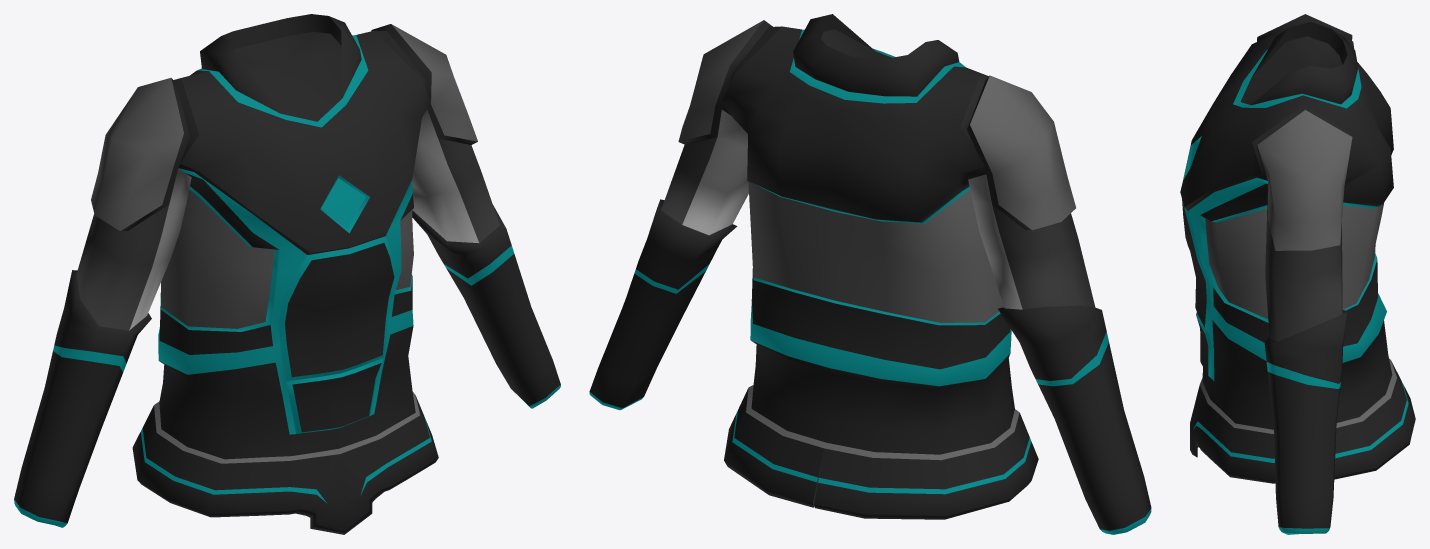
The model's file is M_uBody_CyberSuit.glb.
3 views of the same model, side by side, from view 1: azimuth 30°, elevation 25°; view 2: azimuth 150°, elevation 25°; view 3: azimuth 270°, elevation 25° (orthographic). The views are drawn at different scales.
Visible parts, largest first — view 1: M_uBody_CyberSuit; view 2: M_uBody_CyberSuit; view 3: M_uBody_CyberSuit.
Part boxes in pixels (bbox=[...]): M_uBody_CyberSuit: bbox=[14, 14, 560, 534]; M_uBody_CyberSuit: bbox=[589, 14, 1151, 534]; M_uBody_CyberSuit: bbox=[1180, 14, 1415, 534].
Size of what is drawn, in the model's own units: 1.95 by 1.6 by 0.8306.
1 material, 1 textured.
